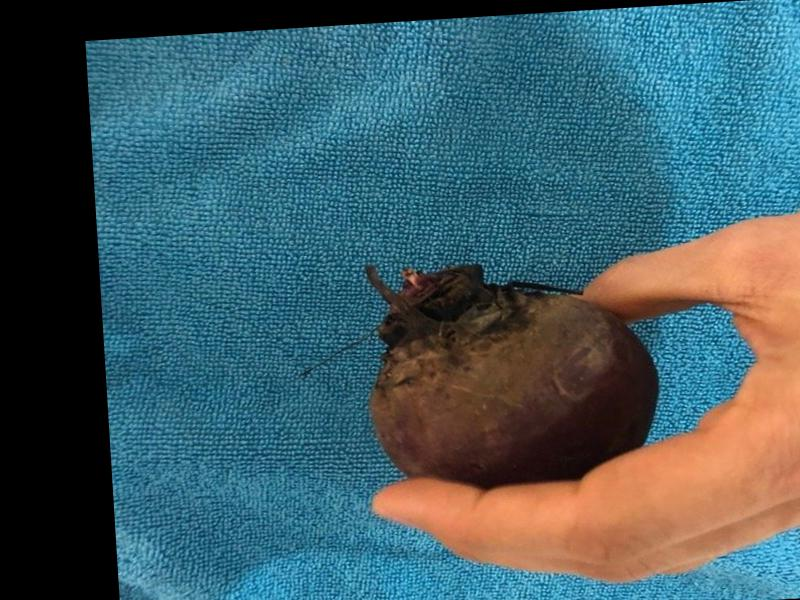Beet: (362, 249, 661, 493)
